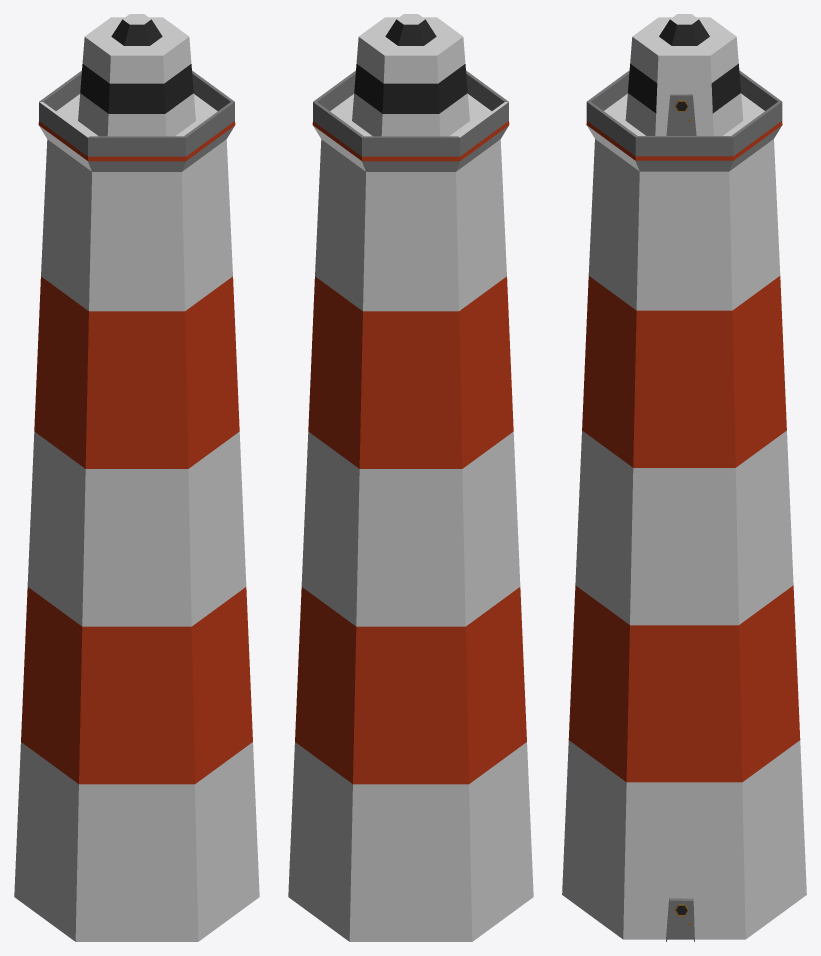
Rendered from Lighthouse.fbx.
3 renders of one model, left to right at view 1: azimuth 30°, elevation 25°; view 2: azimuth 150°, elevation 25°; view 3: azimuth 270°, elevation 25°, orthographic.
Visible parts, largest first — view 1: Cylinder; view 2: Cylinder; view 3: Cylinder.
Boxes of the visible parts, x1,y1,x2,y2 form: Cylinder: [14, 14, 259, 941]; Cylinder: [288, 14, 533, 941]; Cylinder: [562, 14, 806, 941].
Size of the model in its own units: 3099 by 13737 by 3481.
